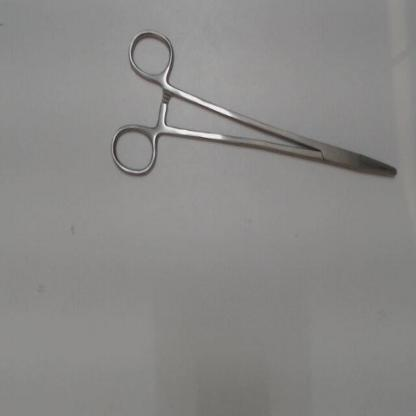8 Mayo Needle Holder: (102, 17, 408, 196)
